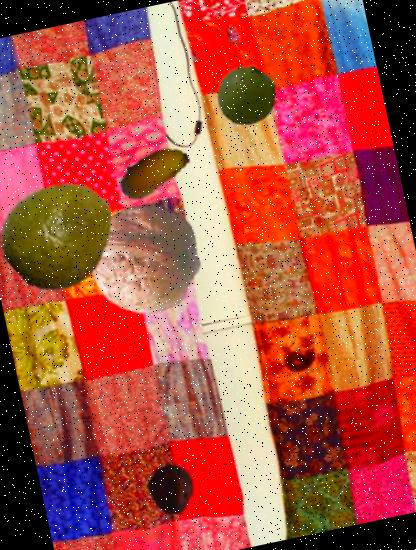Banana: (110, 127, 198, 216)
Chestnut: (140, 460, 200, 520)
Grape: (209, 58, 284, 132)
Guava: (0, 165, 127, 301)
Walnut: (78, 192, 212, 326)
